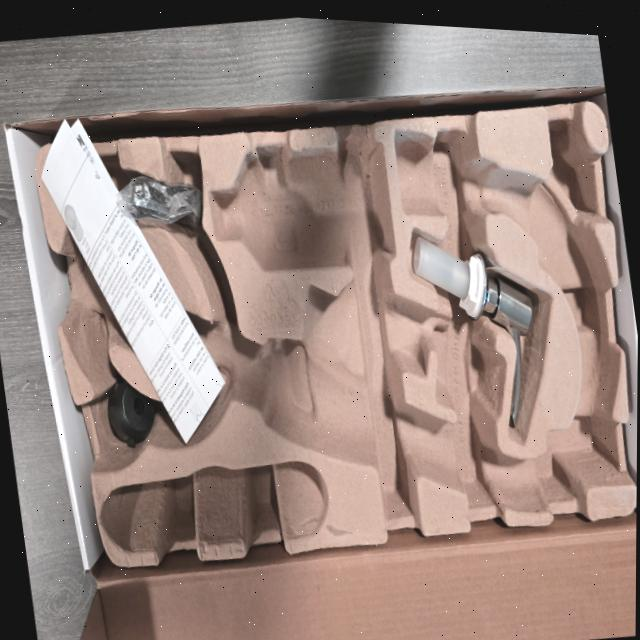1m: (53, 134, 617, 510)
2: (413, 232, 533, 424)
3m: (210, 145, 395, 274)
4m: (101, 462, 329, 553)
5: (108, 385, 154, 450)
6m: (67, 147, 124, 262)
7: (116, 172, 202, 235)
8: (39, 118, 225, 447)
